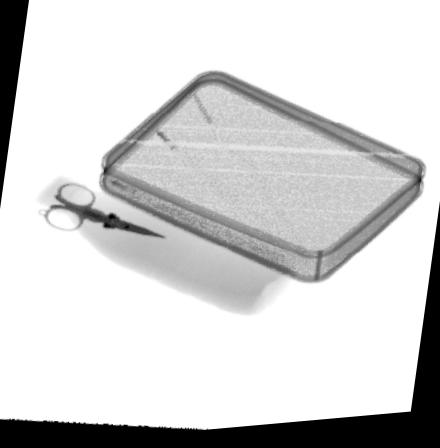Scissors: (44, 183, 169, 241)
